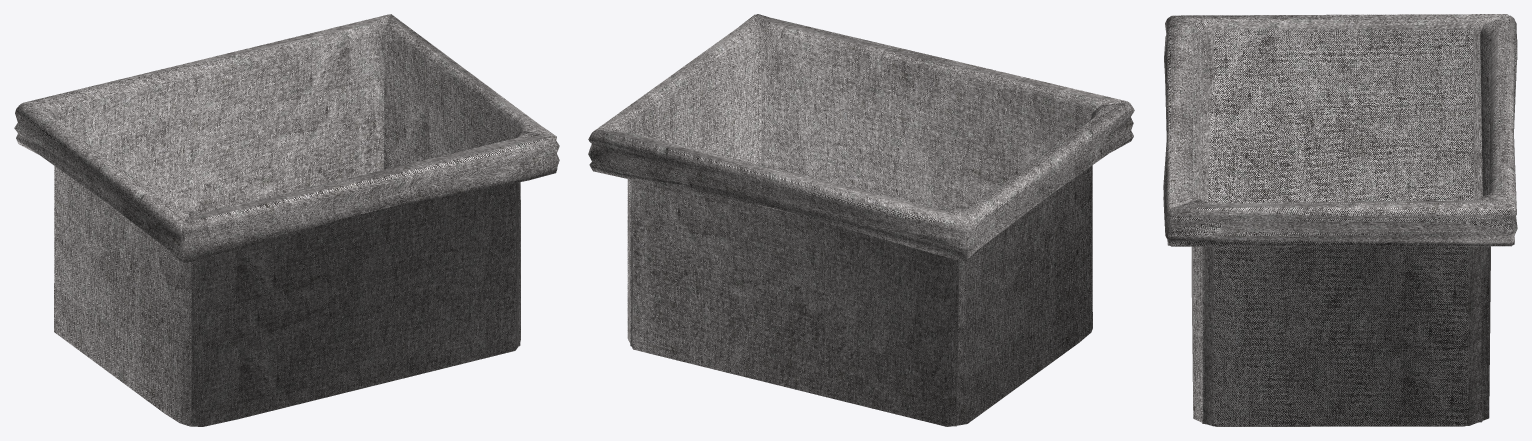
The model's file is shelf-cloth_crate.glb.
3 views of the same model, side by side, from view 1: azimuth 30°, elevation 25°; view 2: azimuth 150°, elevation 25°; view 3: azimuth 270°, elevation 25° (orthographic). The views are drawn at different scales.
Parts seen in each view (by area): view 1: Cloth_crate.001; view 2: Cloth_crate.001; view 3: Cloth_crate.001.
Part boxes in pixels (<box>): Cloth_crate.001: <box>14,14,559,426</box>; Cloth_crate.001: <box>588,14,1134,426</box>; Cloth_crate.001: <box>1163,14,1517,426</box>.
Bounding box in the file's own units: 0.5137 × 0.2888 × 0.3956.
Materials: 1 (1 with a texture image).
